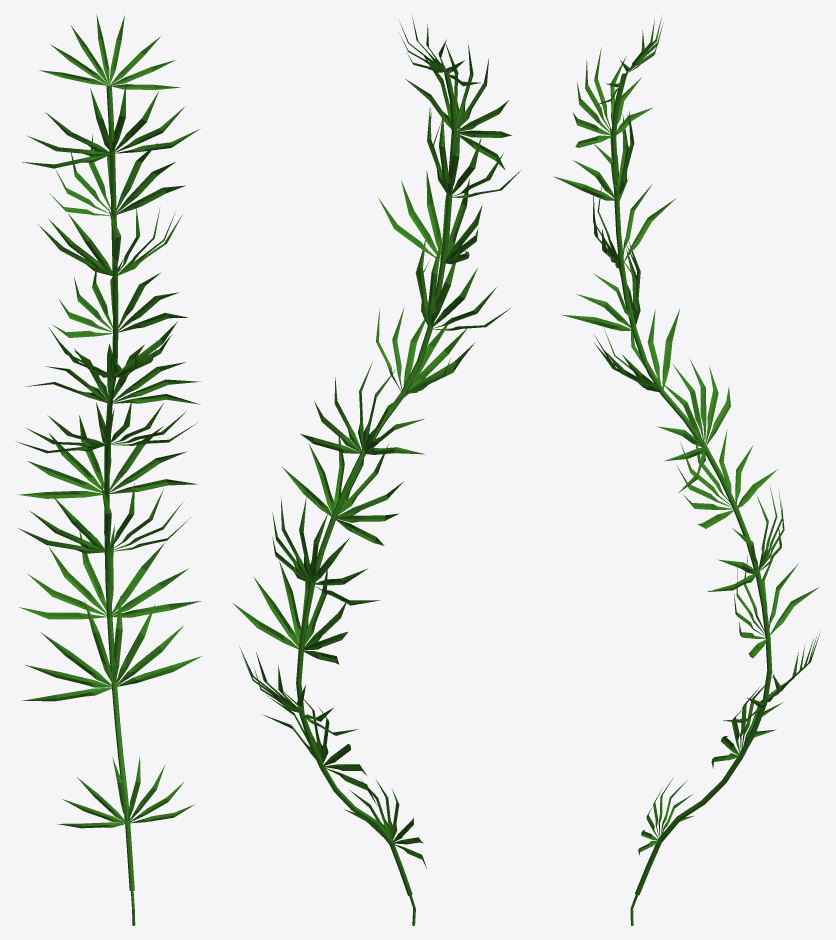
Rendered from dropwort_single.obj.
3 views of the same model, side by side, from view 1: azimuth 30°, elevation 25°; view 2: azimuth 150°, elevation 25°; view 3: azimuth 270°, elevation 25° (orthographic). The views are drawn at different scales.
Parts seen in each view (by area): view 1: Mesh; view 2: Mesh; view 3: Mesh.
Part boxes in pixels (x1,y1,x2,y2): Mesh: [16, 15, 201, 925]; Mesh: [232, 15, 520, 925]; Mesh: [553, 15, 819, 925].
Size of the model in its own units: 2 by 7.8 by 2.12.
